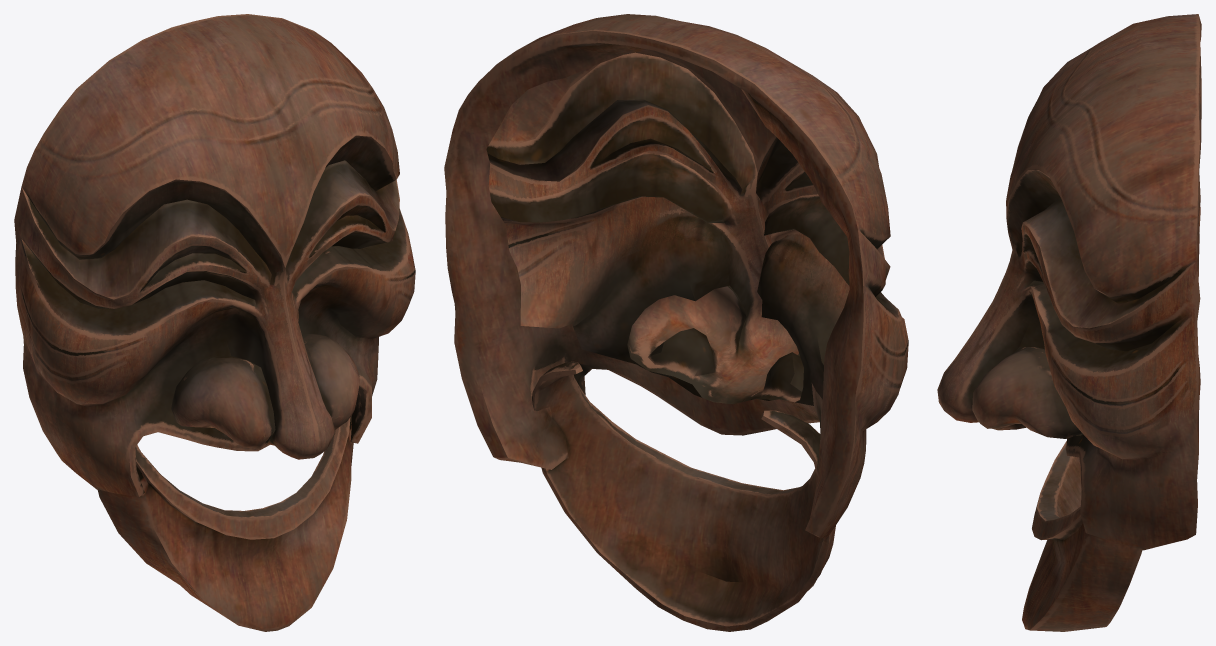
Rendered from mask.fbx.
3 views of the same model, side by side, from view 1: azimuth 30°, elevation 25°; view 2: azimuth 150°, elevation 25°; view 3: azimuth 270°, elevation 25° (orthographic). The views are drawn at different scales.
Parts seen in each view (by area): view 1: TAL_low; view 2: TAL_low; view 3: TAL_low.
Boxes of the visible parts, box(x1,y1,x2,y2) form: TAL_low: box(14, 14, 415, 631); TAL_low: box(444, 14, 908, 631); TAL_low: box(937, 14, 1201, 631).
Size of the model in its own units: 17.94 by 25.56 by 10.48.
